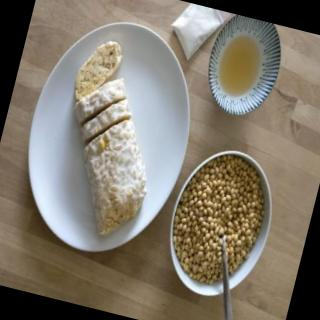Tempe: (38, 33, 182, 247)
